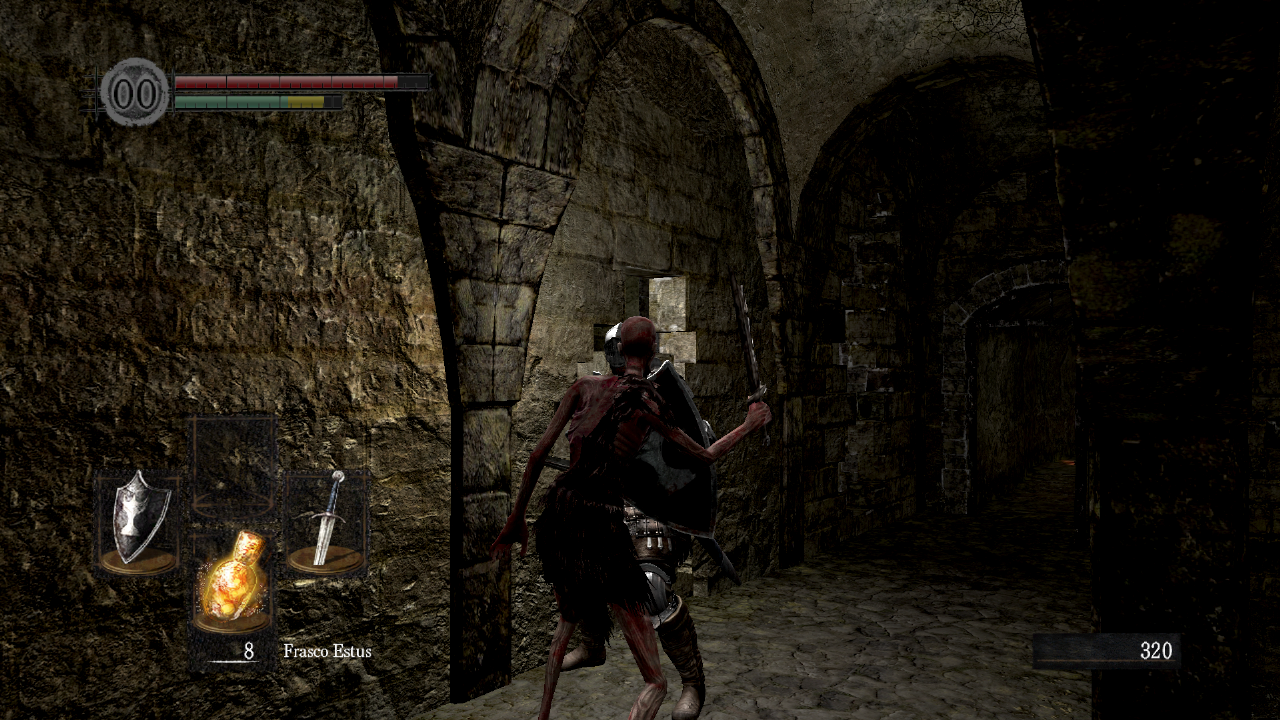hollow: (489, 313, 773, 720)
player: (542, 320, 742, 720)
